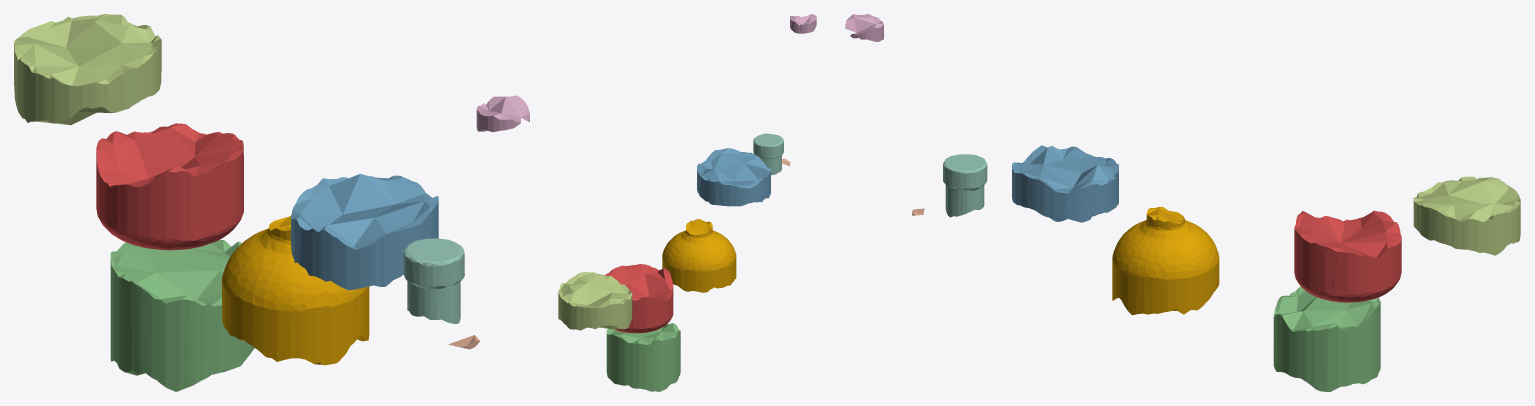
File: fractured_49_8pcs_transformed.glb
The picture shows the model from 3 angles, left to right: view 1: azimuth 30°, elevation 25°; view 2: azimuth 150°, elevation 25°; view 3: azimuth 270°, elevation 25°; orthographic projection. The views are drawn at different scales.
Visible parts, largest first — view 1: piece_1.obj, piece_3.obj, piece_0.obj, piece_5.obj, piece_2.obj, piece_4.obj, piece_6.obj; view 2: piece_3.obj, piece_0.obj, piece_5.obj, piece_2.obj, piece_1.obj, piece_4.obj, piece_6.obj; view 3: piece_0.obj, piece_3.obj, piece_1.obj, piece_5.obj, piece_2.obj, piece_4.obj, piece_6.obj.
Part boxes in pixels (left/top/right/bottom): piece_1.obj: left=96, top=123, right=243, bottom=250; piece_3.obj: left=110, top=240, right=254, bottom=391; piece_0.obj: left=222, top=216, right=369, bottom=365; piece_5.obj: left=14, top=14, right=161, bottom=125; piece_2.obj: left=291, top=174, right=438, bottom=290; piece_4.obj: left=403, top=238, right=464, bottom=323; piece_6.obj: left=476, top=95, right=529, bottom=132; piece_3.obj: left=606, top=323, right=680, bottom=391; piece_0.obj: left=662, top=219, right=736, bottom=292; piece_5.obj: left=558, top=271, right=632, bottom=330; piece_2.obj: left=697, top=148, right=770, bottom=206; piece_1.obj: left=605, top=264, right=673, bottom=333; piece_4.obj: left=753, top=133, right=783, bottom=175; piece_6.obj: left=790, top=14, right=816, bottom=33; piece_0.obj: left=1112, top=206, right=1219, bottom=315; piece_3.obj: left=1273, top=286, right=1380, bottom=391; piece_1.obj: left=1294, top=210, right=1401, bottom=302; piece_5.obj: left=1413, top=176, right=1520, bottom=255; piece_2.obj: left=1012, top=145, right=1118, bottom=222; piece_4.obj: left=943, top=154, right=987, bottom=217; piece_6.obj: left=845, top=14, right=883, bottom=41.
Size of the model in its own units: 0.3203 by 1.17 by 2.02.
